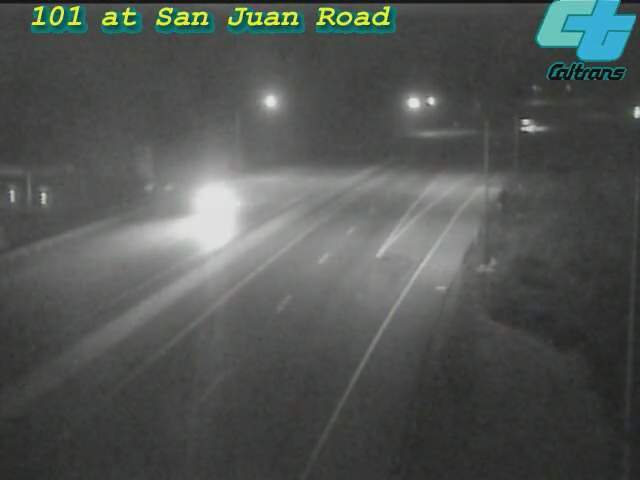vehicle: (177, 163, 257, 243), (512, 99, 562, 149)
